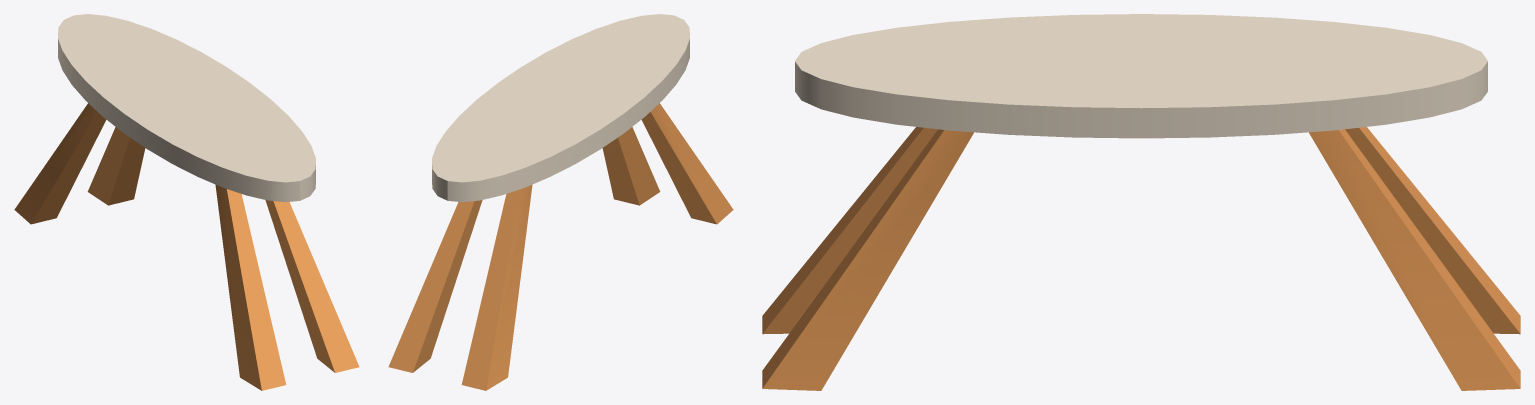
Rendered from desk.fbx.
3 views of the same model, side by side, from view 1: azimuth 30°, elevation 25°; view 2: azimuth 150°, elevation 25°; view 3: azimuth 270°, elevation 25° (orthographic). The views are drawn at different scales.
Visible parts, largest first — view 1: Cylinder; view 2: Cylinder; view 3: Cylinder.
Boxes of the visible parts, x1,y1,x2,y2 form: Cylinder: (14, 14, 359, 390); Cylinder: (388, 14, 733, 390); Cylinder: (762, 14, 1520, 390).
Size of the model in its own units: 200 by 289 by 681.
